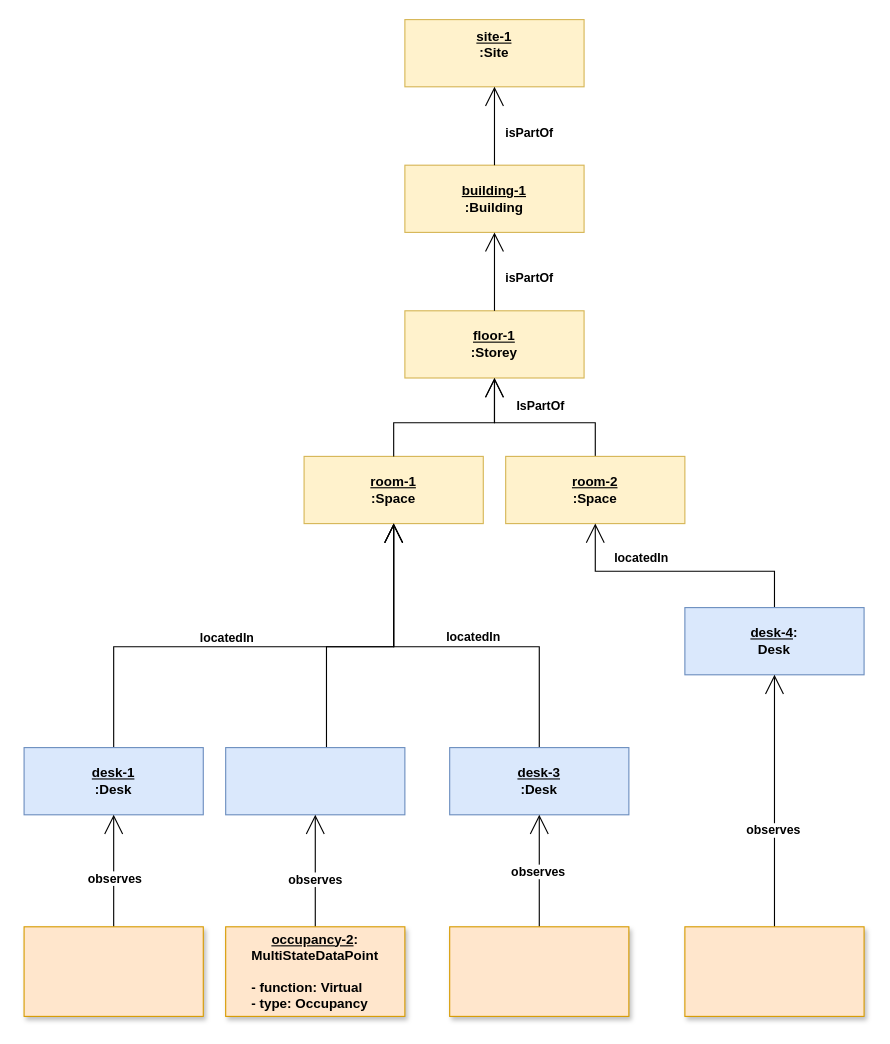
The diagram is 890 pixels wide and 1044 high, and some of its shapes have lost their labels. Each missing label, with the centre of its shape:
"desk-2 :Desk" belongs at point 315,780.
"occupancy-1 : MultiStateDataPoint - function: Virtual - type: Occupancy" belongs at point 114,972.
"occupancy-3 : MultiStateDataPoint - function: Virtual - type: Occupancy" belongs at point 540,972.
"occupancy-4 : MultiStateDataPoint - function: Virtual - type: Occupancy" belongs at point 775,972.
